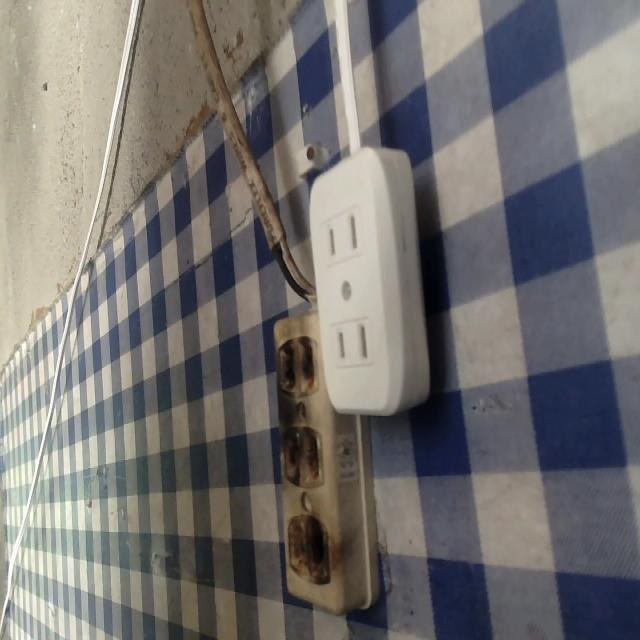-: (276, 508, 332, 585), (273, 423, 331, 488), (273, 329, 318, 394)
